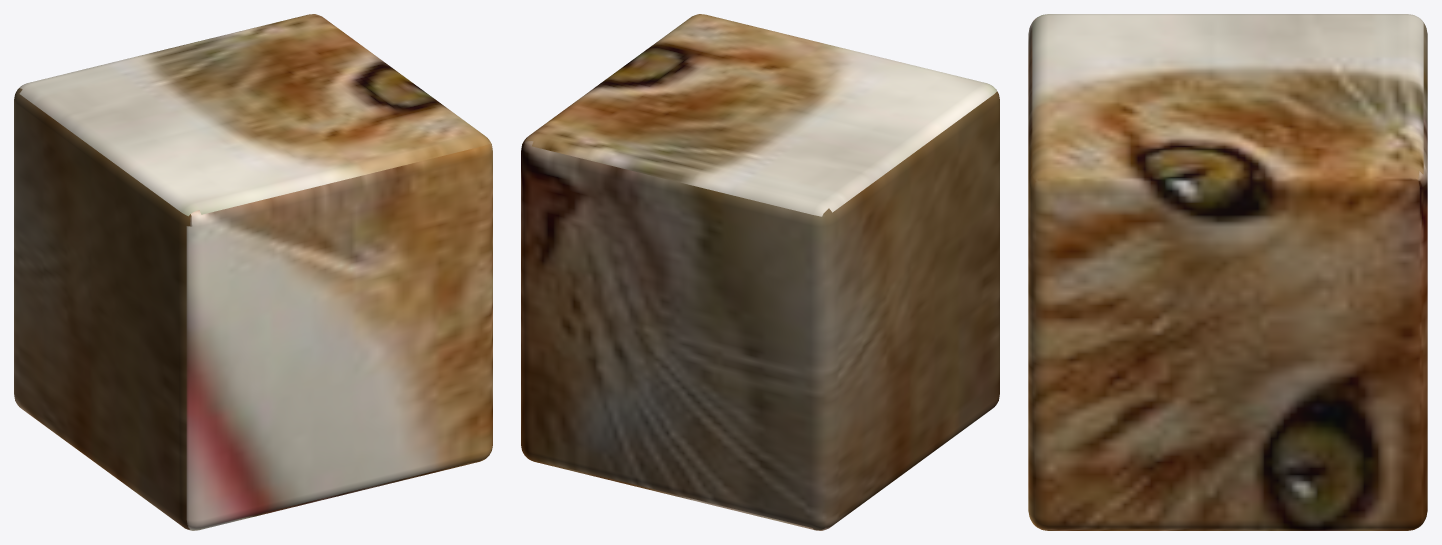
Rendered from cat_cube.obj.
3 views of the same model, side by side, from view 1: azimuth 30°, elevation 25°; view 2: azimuth 150°, elevation 25°; view 3: azimuth 270°, elevation 25° (orthographic). The views are drawn at different scales.
Parts seen in each view (by area): view 1: Cube_Finished_Cube.001; view 2: Cube_Finished_Cube.001; view 3: Cube_Finished_Cube.001.
Part boxes in pixels (x1,y1,x2,y2): Cube_Finished_Cube.001: (14,14,492,530); Cube_Finished_Cube.001: (521,14,999,530); Cube_Finished_Cube.001: (1028,14,1427,530).
Bounding box in the file's own units: 2 × 2 × 2.
1 material, 1 textured.
